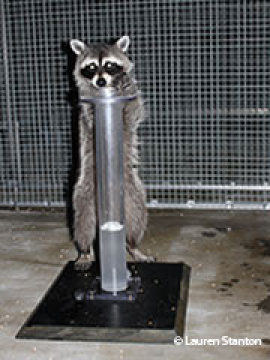raccoon: (71, 34, 158, 319)
